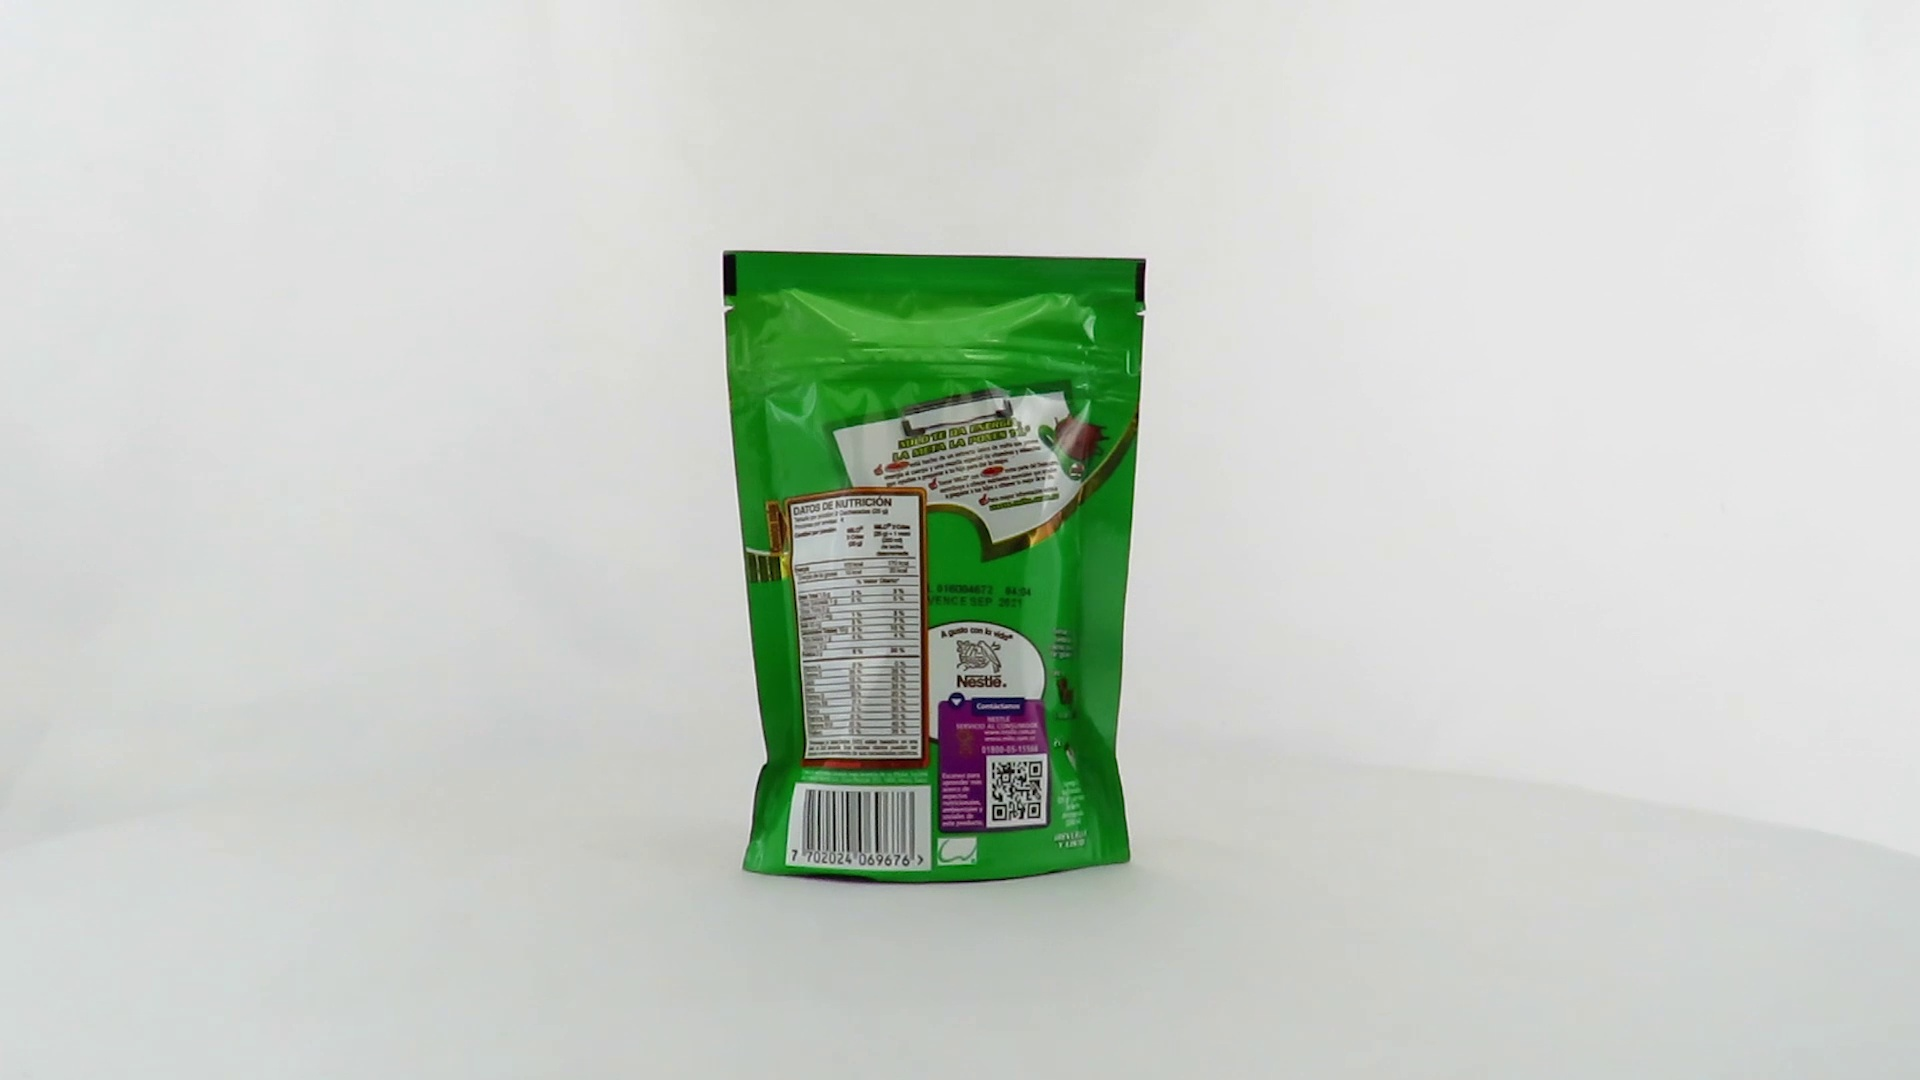COL0170203DYP10000: (717, 245, 1153, 891)
